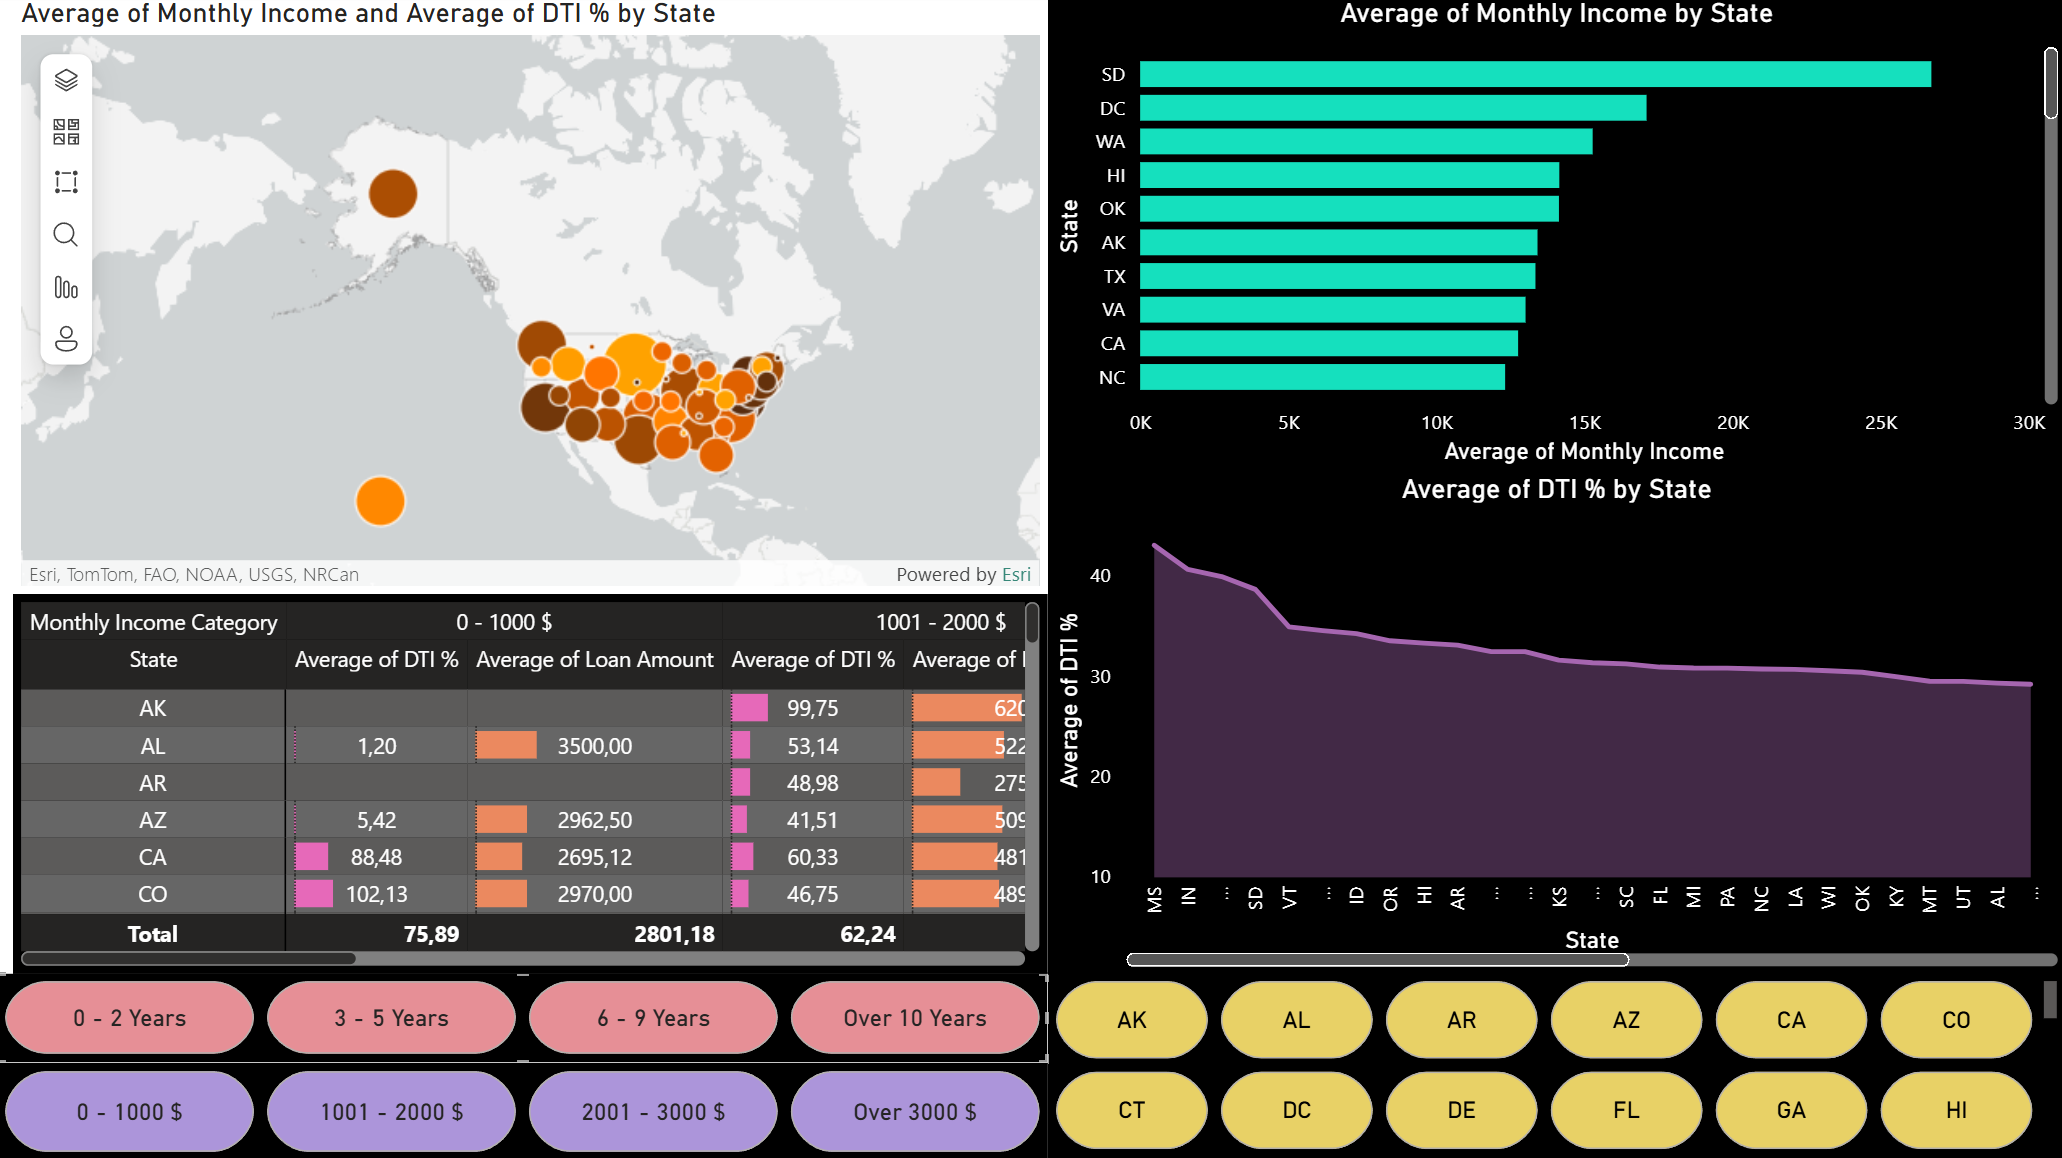

Layout of this report page (visuals, bound fields, positions):
{"tool":"powerbi","page":{"name":"State","canvas":[1280,720],"ordinal":2},"visuals":[{"type":"esriVisual","fields":{"Location":["loan.State"],"Size":["Avg(loan.Monthly Income)"],"Color":["Avg(loan.DTI %)"]},"box":[9.9,0,640.3,369.9],"z":0},{"type":"barChart","fields":{"Category":["loan.State"],"Y":["Avg(loan.Monthly Income)"]},"box":[650.1,0,629.6,294.6],"z":1000},{"type":"advancedSlicerVisual","fields":{"Values":["loan.State"]},"box":[650.1,604.5,629.6,115.5],"z":2000},{"type":"advancedSlicerVisual","fields":{"Values":["loan.Employment Length Category"]},"box":[0,604.5,650.1,55.5],"z":3000},{"type":"advancedSlicerVisual","fields":{"Values":["loan.Monthly Income Category"]},"box":[0,660,650.1,60],"z":4000},{"type":"pivotTable","fields":{"Rows":["loan.State"],"Columns":["loan.Monthly Income Category"],"Values":["Avg(loan.DTI %)","Avg(loan.Loan Amount)"]},"box":[9.9,369.9,640.3,234.6],"z":5000},{"type":"areaChart","fields":{"Category":["loan.State"],"Y":["Avg(loan.DTI %)"]},"box":[650.1,294.6,629.6,310.7],"z":5001}]}

Visuals, with their boxes in screenshot pixels (x1, y1, x2, y2), scaled from the page's 1280x720 canvas onto the 2062x1158 screenshot:
esriVisual - loan.State x Avg(loan.Monthly Income): <region>16, 0, 1047, 595</region>
barChart - loan.State x Avg(loan.Monthly Income): <region>1047, 0, 2061, 474</region>
advancedSlicerVisual - loan.State: <region>1047, 972, 2061, 1157</region>
advancedSlicerVisual - loan.Employment Length Category: <region>0, 972, 1047, 1062</region>
advancedSlicerVisual - loan.Monthly Income Category: <region>0, 1062, 1047, 1157</region>
pivotTable - loan.State x loan.Monthly Income Category: <region>16, 595, 1047, 972</region>
areaChart - loan.State x Avg(loan.DTI %): <region>1047, 474, 2061, 974</region>
